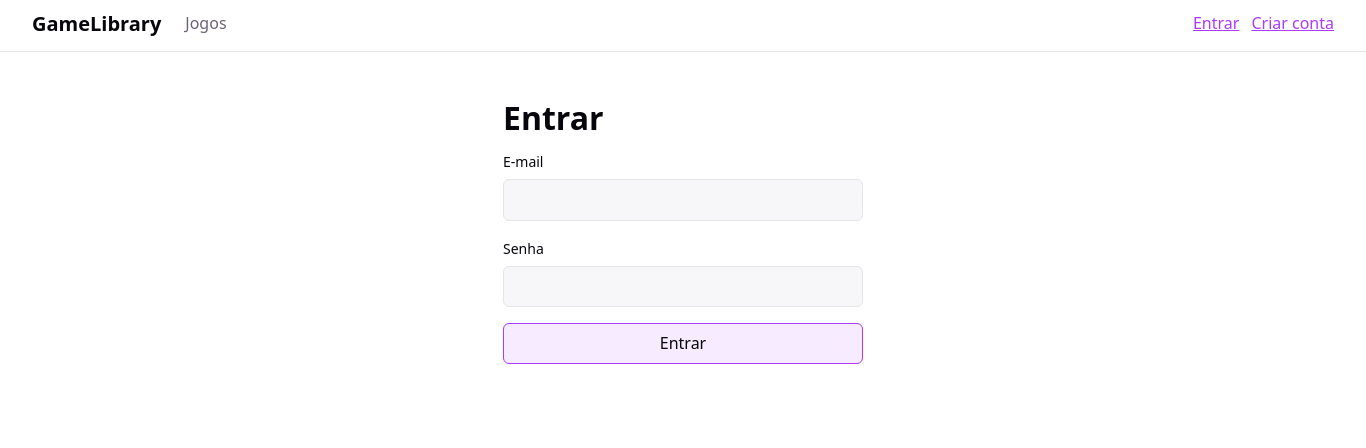
Scenario: Autenticação › mostra erro ao tentar logar com credenciais inválidas
The image size is (1366, 448).
In the field with test id "login-email": (683,201) top-left (503, 180), bottom-right (863, 221), type "nao-existe@teste.com"
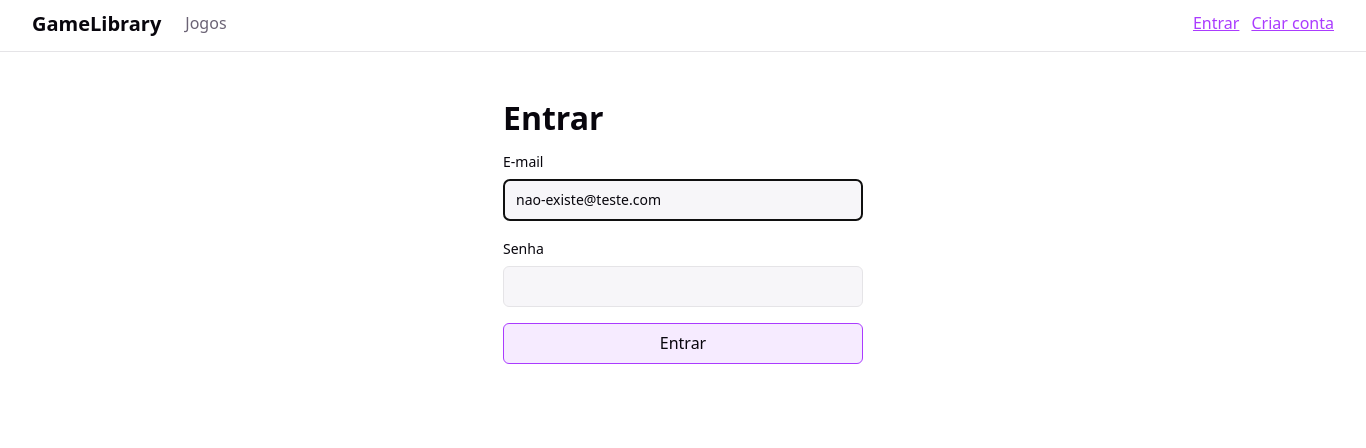
In the password field with test id "login-password": (683,287) top-left (503, 266), bottom-right (863, 307), type "senhaerrada"
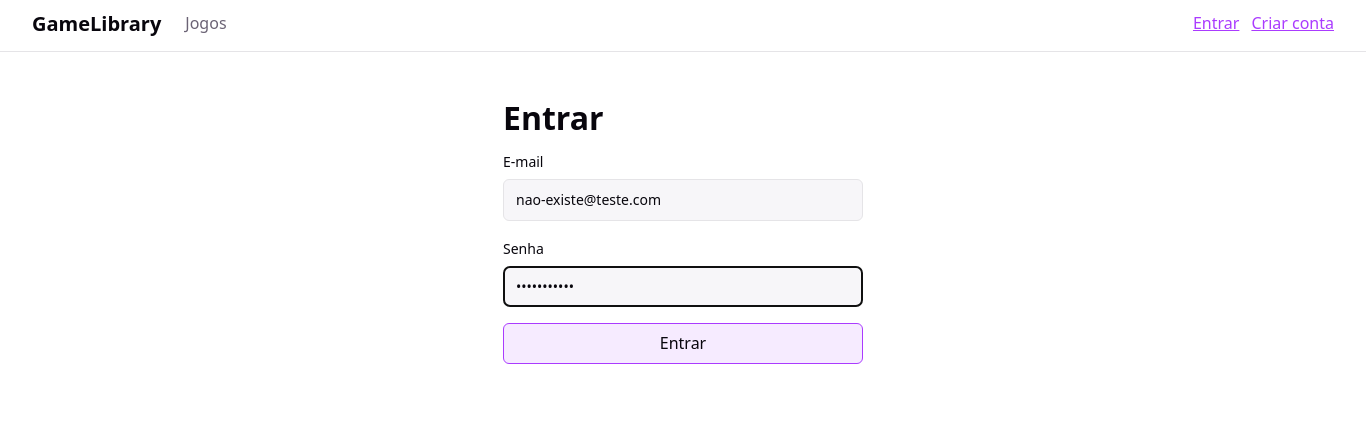
Click the button with test id "login-submit": (683,344) top-left (503, 323), bottom-right (863, 364)
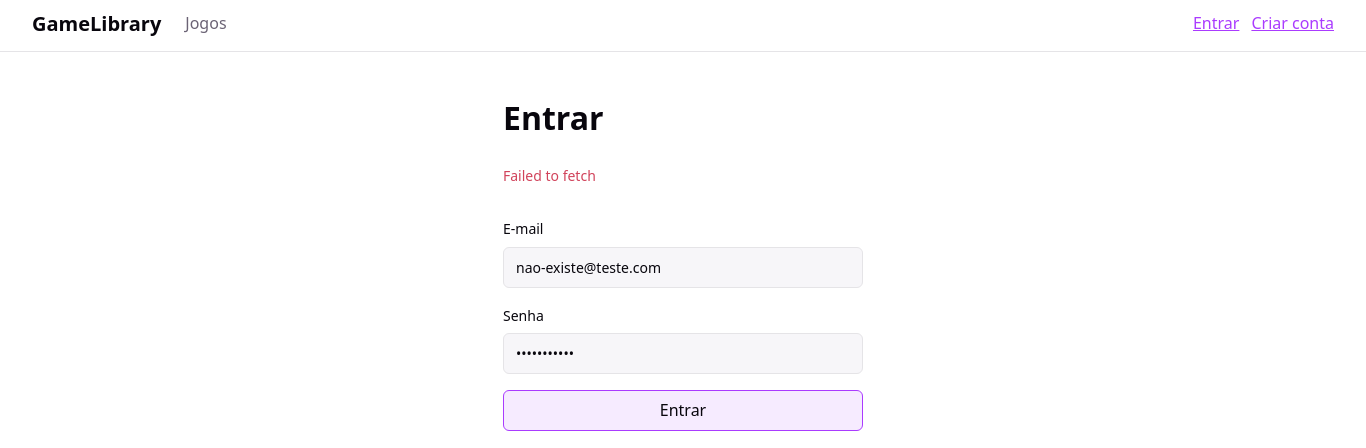
Check: the text with test id "login-error" is shown, box top-left (503, 166), bottom-right (596, 185)
